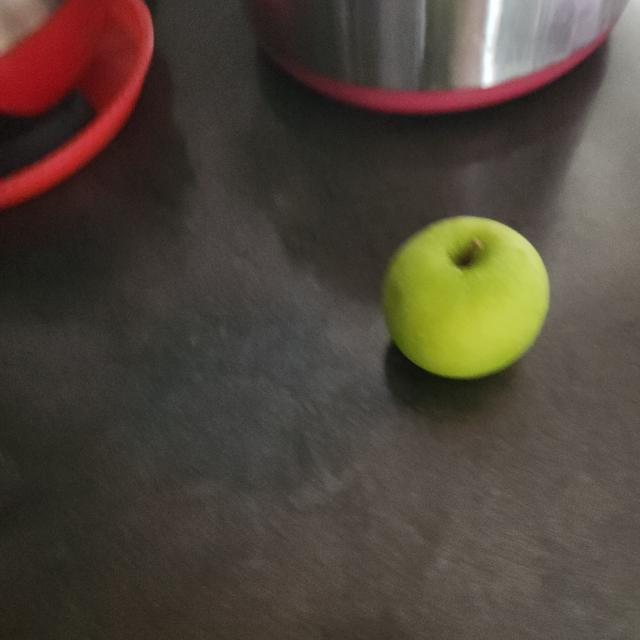apple: (374, 210, 554, 392)
